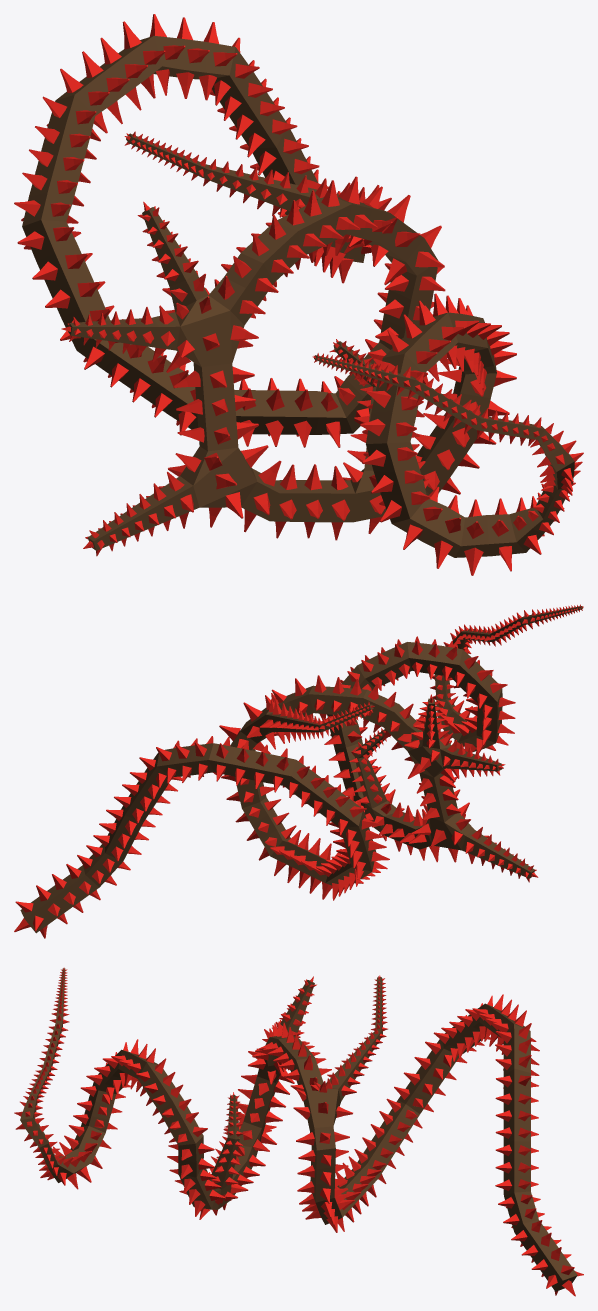
File: thorns_2.fbx
The picture shows the model from 3 angles, top to bottom: view 1: azimuth 30°, elevation 25°; view 2: azimuth 150°, elevation 25°; view 3: azimuth 270°, elevation 25°; orthographic projection. The views are drawn at different scales.
Visible parts, largest first — view 1: THORN_2; view 2: THORN_2; view 3: THORN_2.
Boxes of the visible parts, x1,y1,x2,y2 form: THORN_2: (14, 14, 583, 575); THORN_2: (14, 604, 583, 938); THORN_2: (14, 967, 583, 1296).
Bounding box in the file's own units: 227 × 137 × 331.
